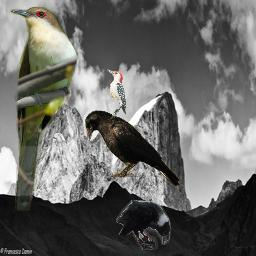Crow: (85, 110, 181, 186), (116, 200, 171, 250)
Cuckoo: (10, 6, 79, 211)
Woodpecker: (106, 69, 126, 119)
